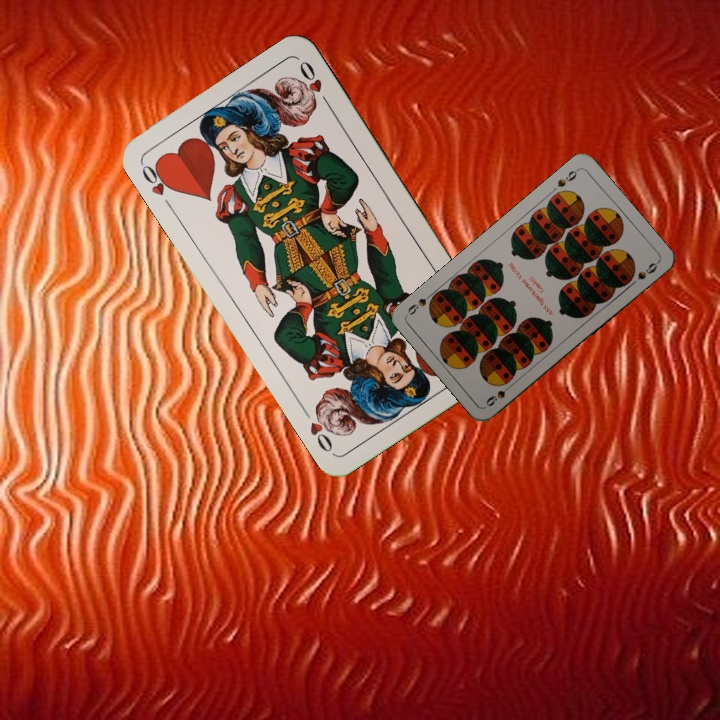HO: (137, 157, 178, 198)
S9: (482, 379, 516, 409), (553, 165, 582, 190)
